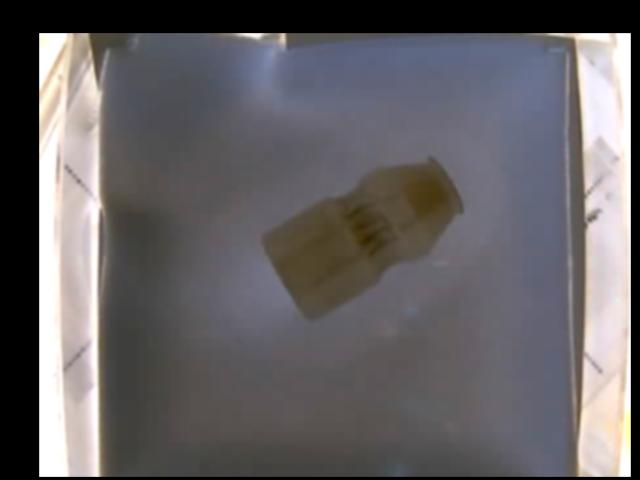Bottle: (259, 154, 466, 322)
